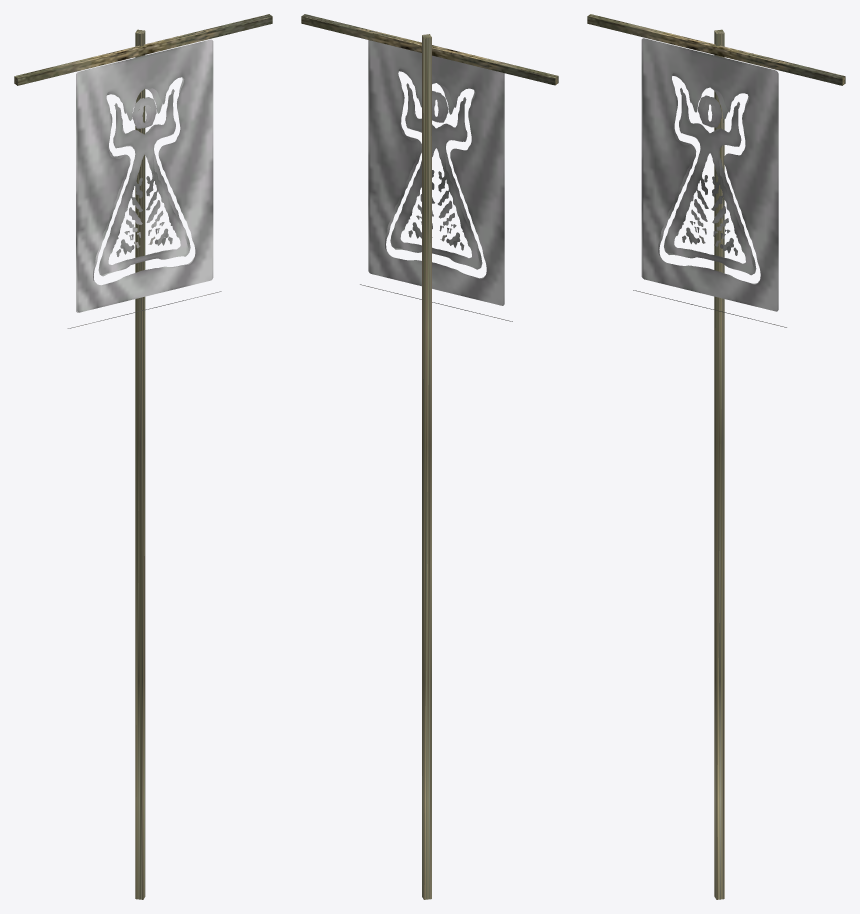
Rendered from kart_banner_a.dae.
3 renders of one model, left to right at view 1: azimuth 30°, elevation 25°; view 2: azimuth 150°, elevation 25°; view 3: azimuth 330°, elevation 25°, orthographic.
Visible parts, largest first — view 1: Box05; view 2: Box05; view 3: Box05.
Boxes of the visible parts, box(x1,y1,x2,y2) form: Box05: box(14, 14, 272, 899); Box05: box(301, 14, 558, 899); Box05: box(587, 14, 845, 899).
Size of the model in its own units: 2.41 by 0.1626 by 7.82.
